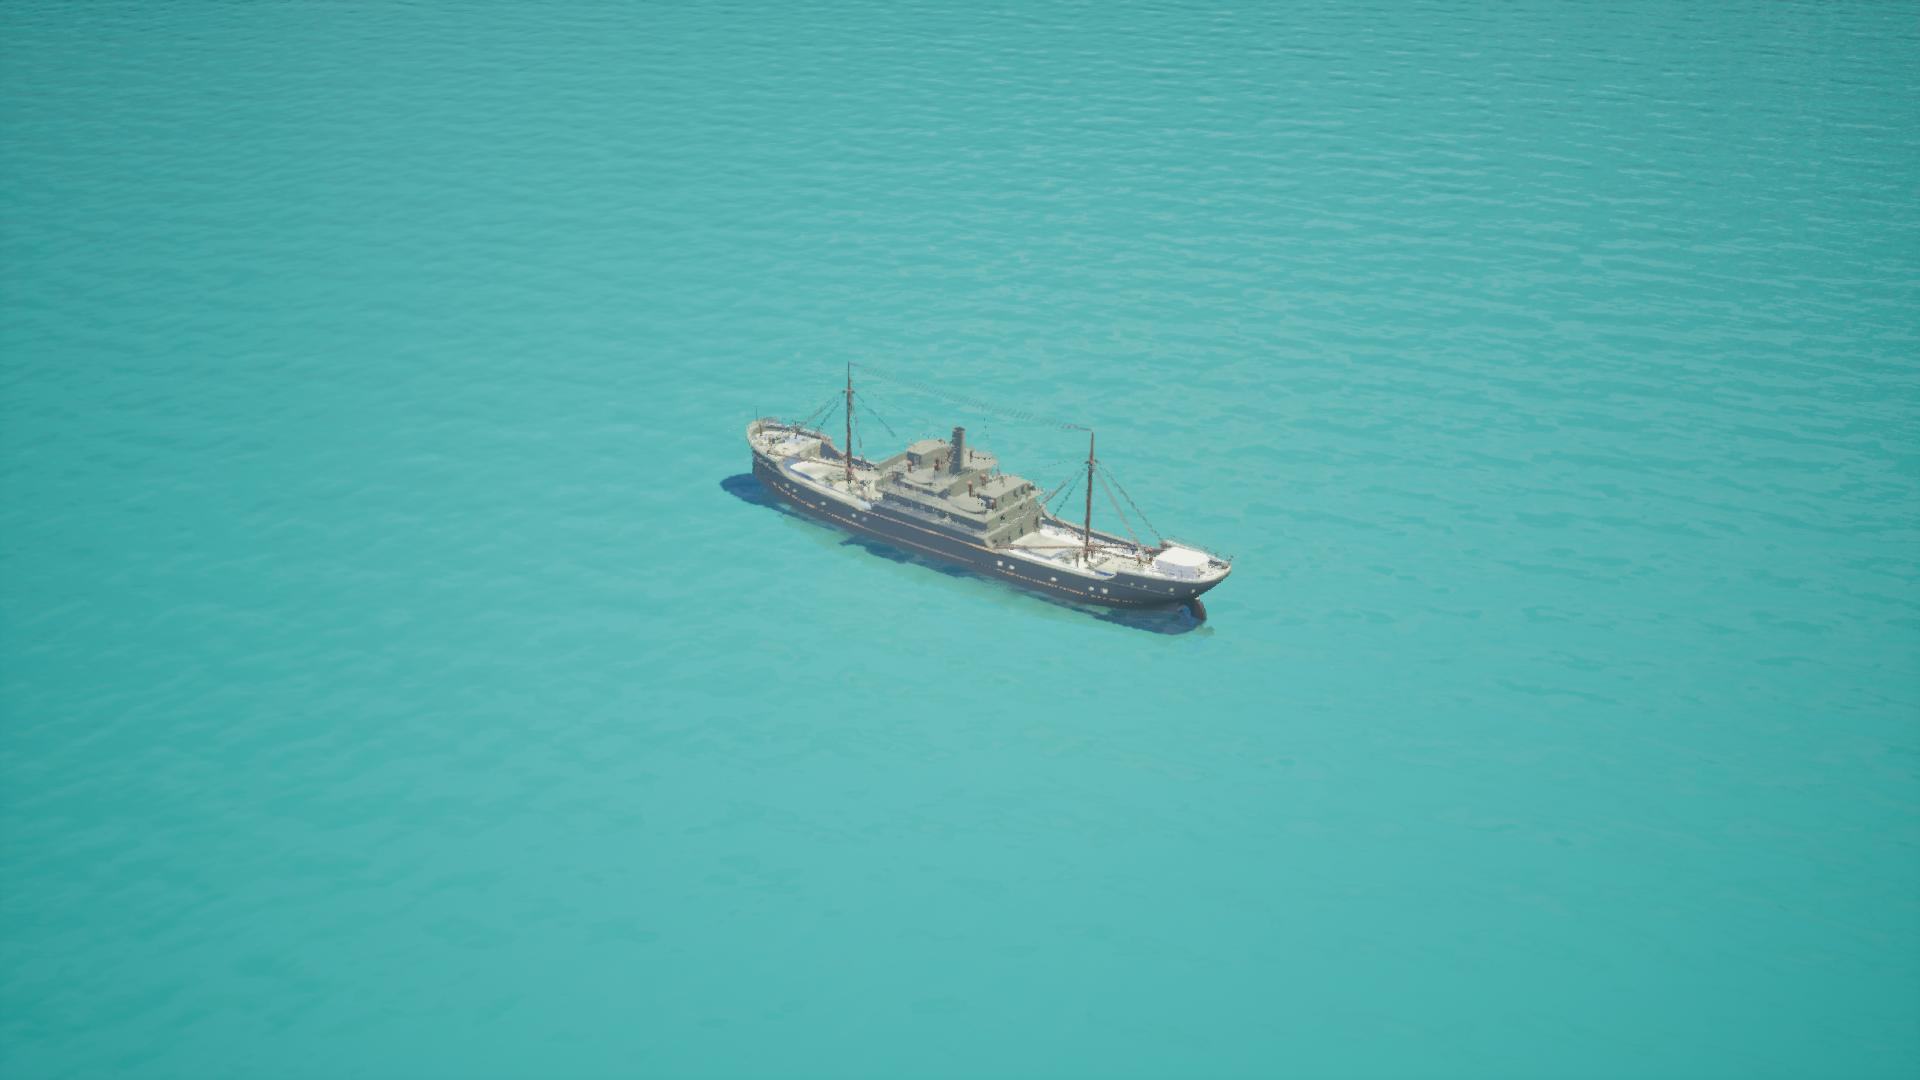Fishing Boat: (732, 377, 1232, 636)
